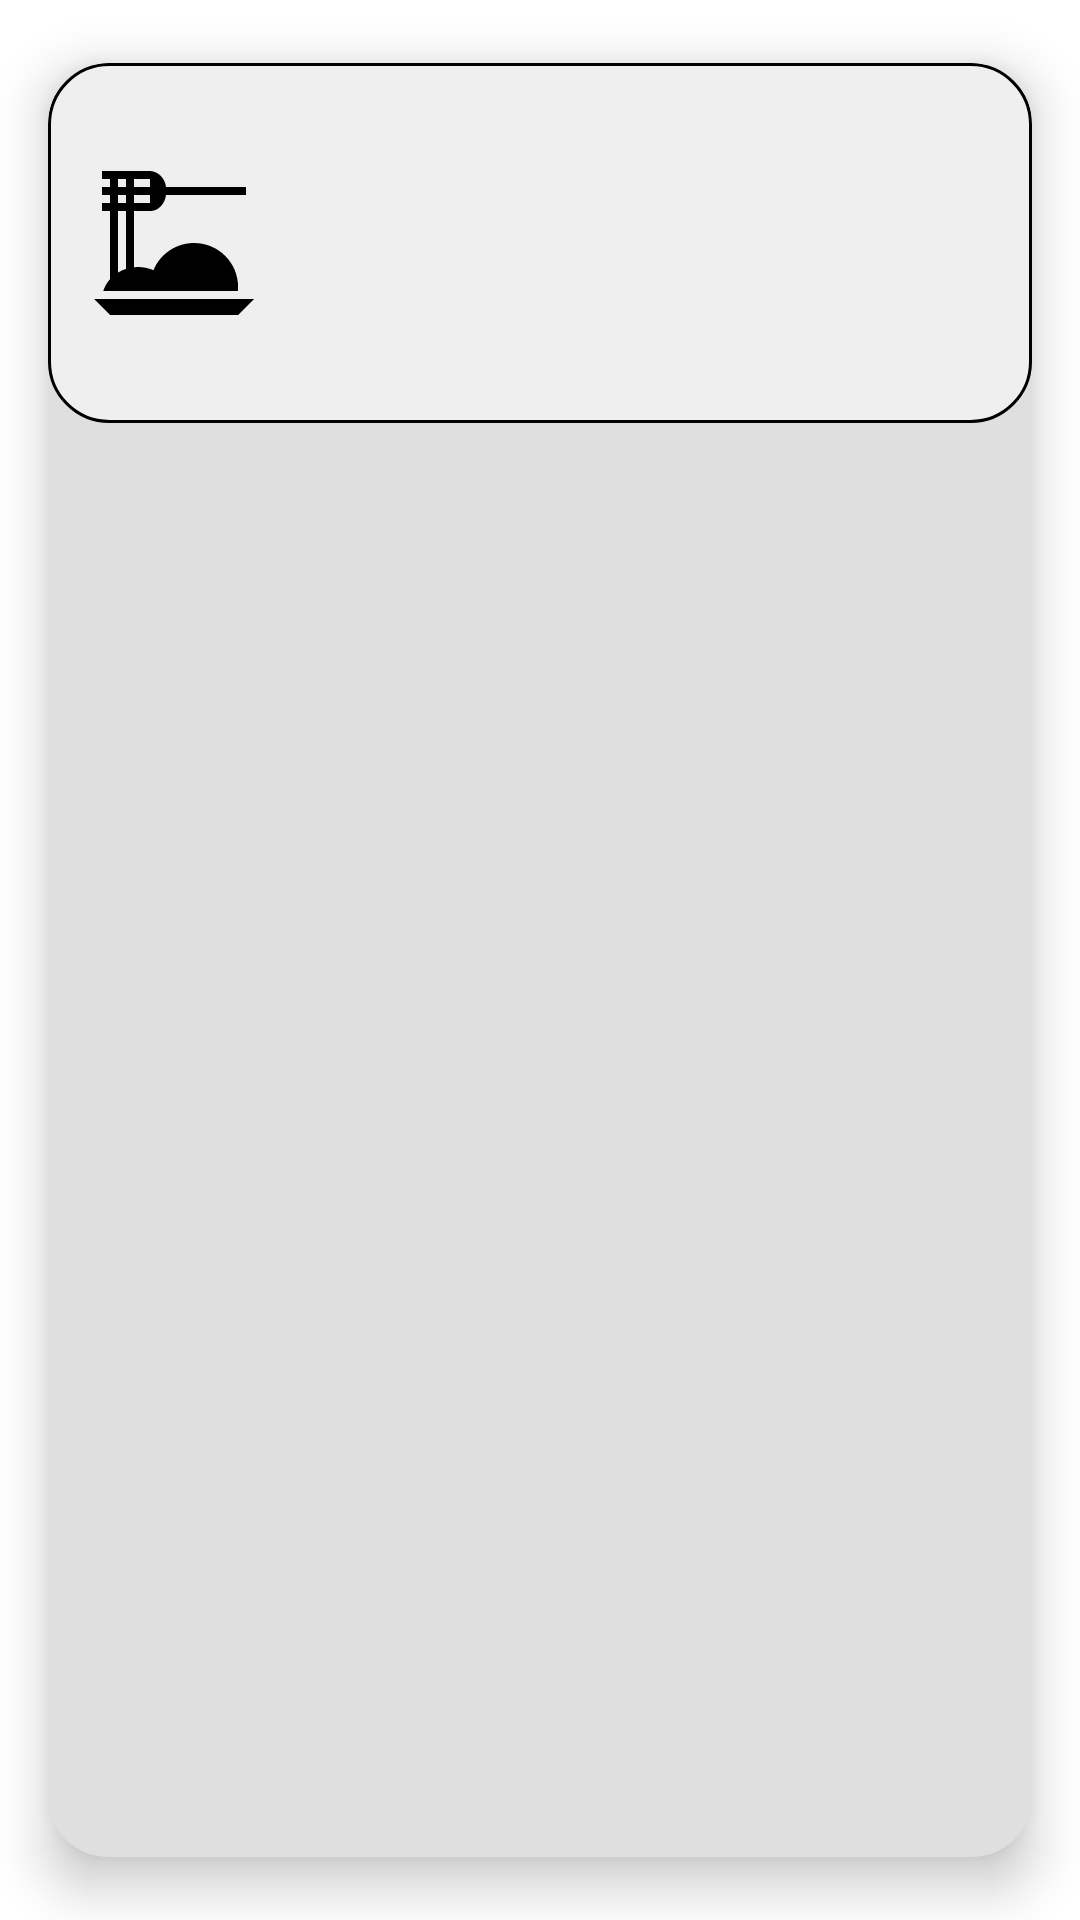

Screen size 1080×1920. Icon name, then its box in pixels as {"x1": x1, "y1": y1, "x2": x2, "y2": y2}:
dinner dining: {"x1": 94, "y1": 171, "x2": 254, "y2": 315}
